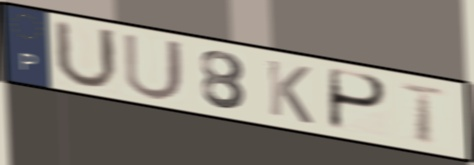8: (198, 50, 248, 112)
K: (263, 56, 316, 128)
P: (325, 66, 391, 135)
T: (397, 80, 451, 148)
U: (50, 16, 122, 92), (120, 30, 188, 103)
